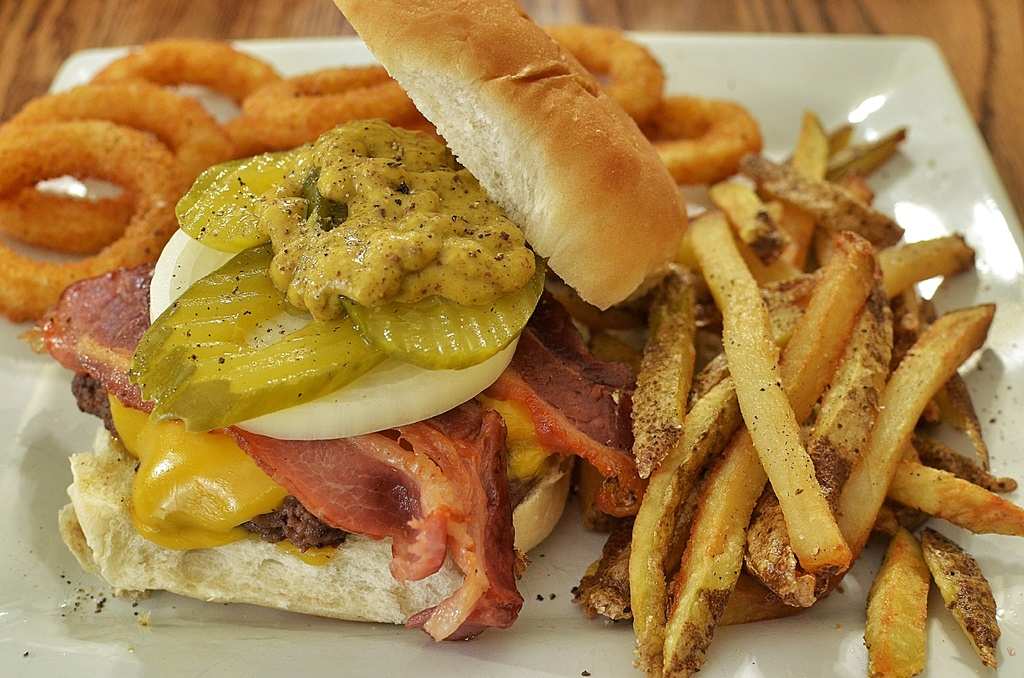French fries: (576, 92, 1023, 677)
